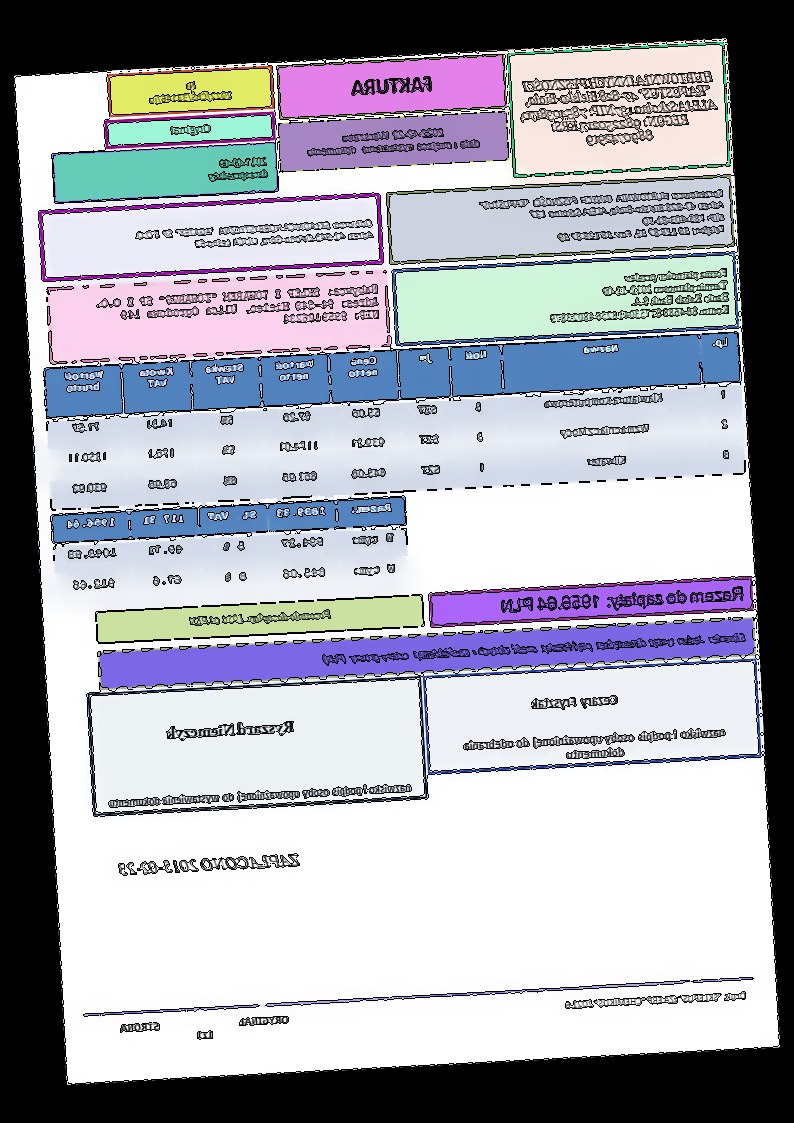Table: (42, 329, 748, 512), (49, 496, 411, 606)
TextBox: (515, 68, 721, 152), (321, 630, 748, 668), (477, 187, 728, 249), (93, 282, 382, 335), (545, 265, 731, 325), (461, 725, 730, 765), (107, 780, 414, 811), (133, 214, 376, 253), (500, 583, 746, 618), (304, 124, 481, 159), (118, 1013, 293, 1046), (116, 851, 303, 878), (563, 990, 748, 1012), (165, 717, 295, 742), (186, 607, 333, 628), (147, 78, 234, 107), (349, 73, 435, 98), (206, 154, 271, 183), (529, 692, 619, 712), (169, 121, 212, 138)
